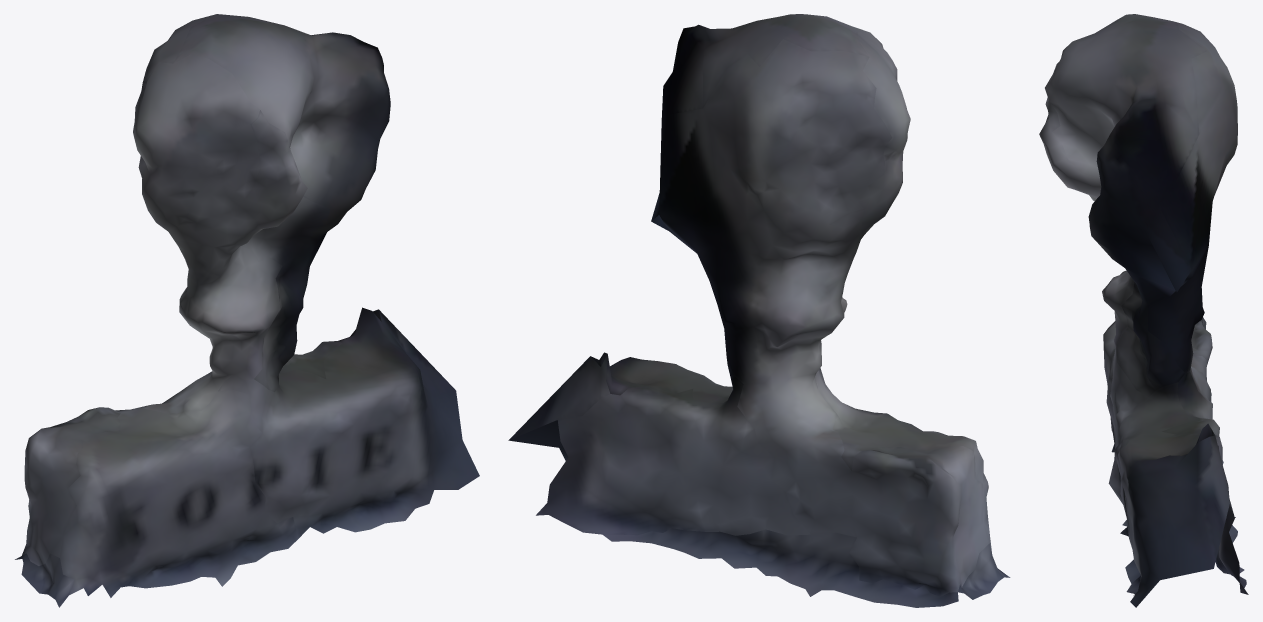
File: copy-stamp_photogrammetrie_sony_comp.glb
3 renders of one model, left to right at view 1: azimuth 30°, elevation 25°; view 2: azimuth 150°, elevation 25°; view 3: azimuth 270°, elevation 25°, orthographic. The views are drawn at different scales.
Visible parts, largest first — view 1: model; view 2: model; view 3: model.
Part boxes in pixels (bbox=[...]): model: bbox=[15, 14, 479, 607]; model: bbox=[508, 14, 1010, 607]; model: bbox=[1039, 14, 1248, 607].
Bounding box in the file's own units: 0.0559 × 0.0649 × 0.0241.
Materials: 1 (1 with a texture image).
